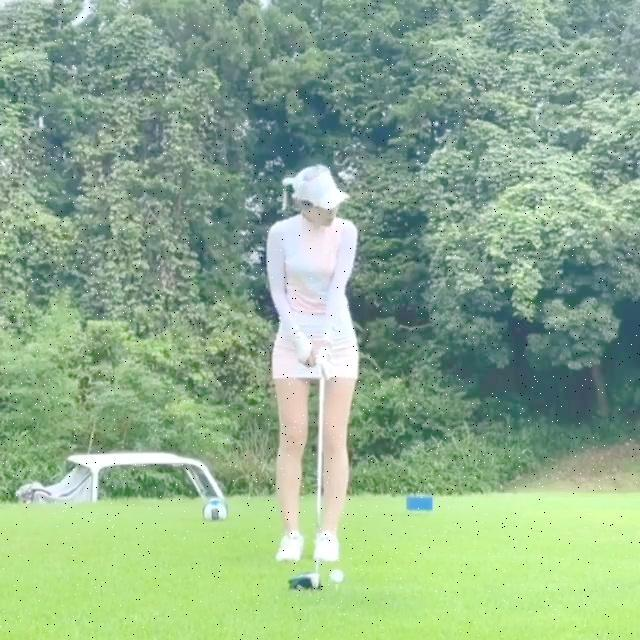golf ball: (332, 569, 350, 587)
golf club-handle: (284, 364, 334, 590)
golf club-head: (290, 571, 321, 588)
